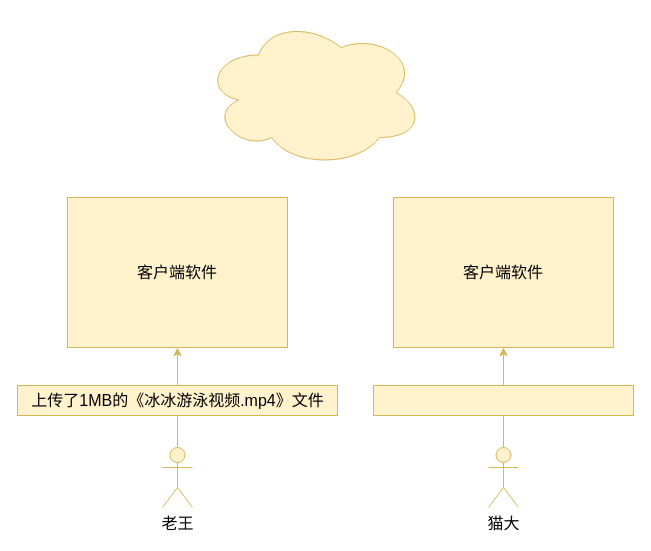
Image size: 651x551. Some labels were removed from this diagram. Here are the shapes that lost their labels. From the top down, the centre of each, then its label:
At pixel 313 92: "AI盘服务器端".
At pixel 503 400: "上传了1G的《AI云盘.mp4》文件".
